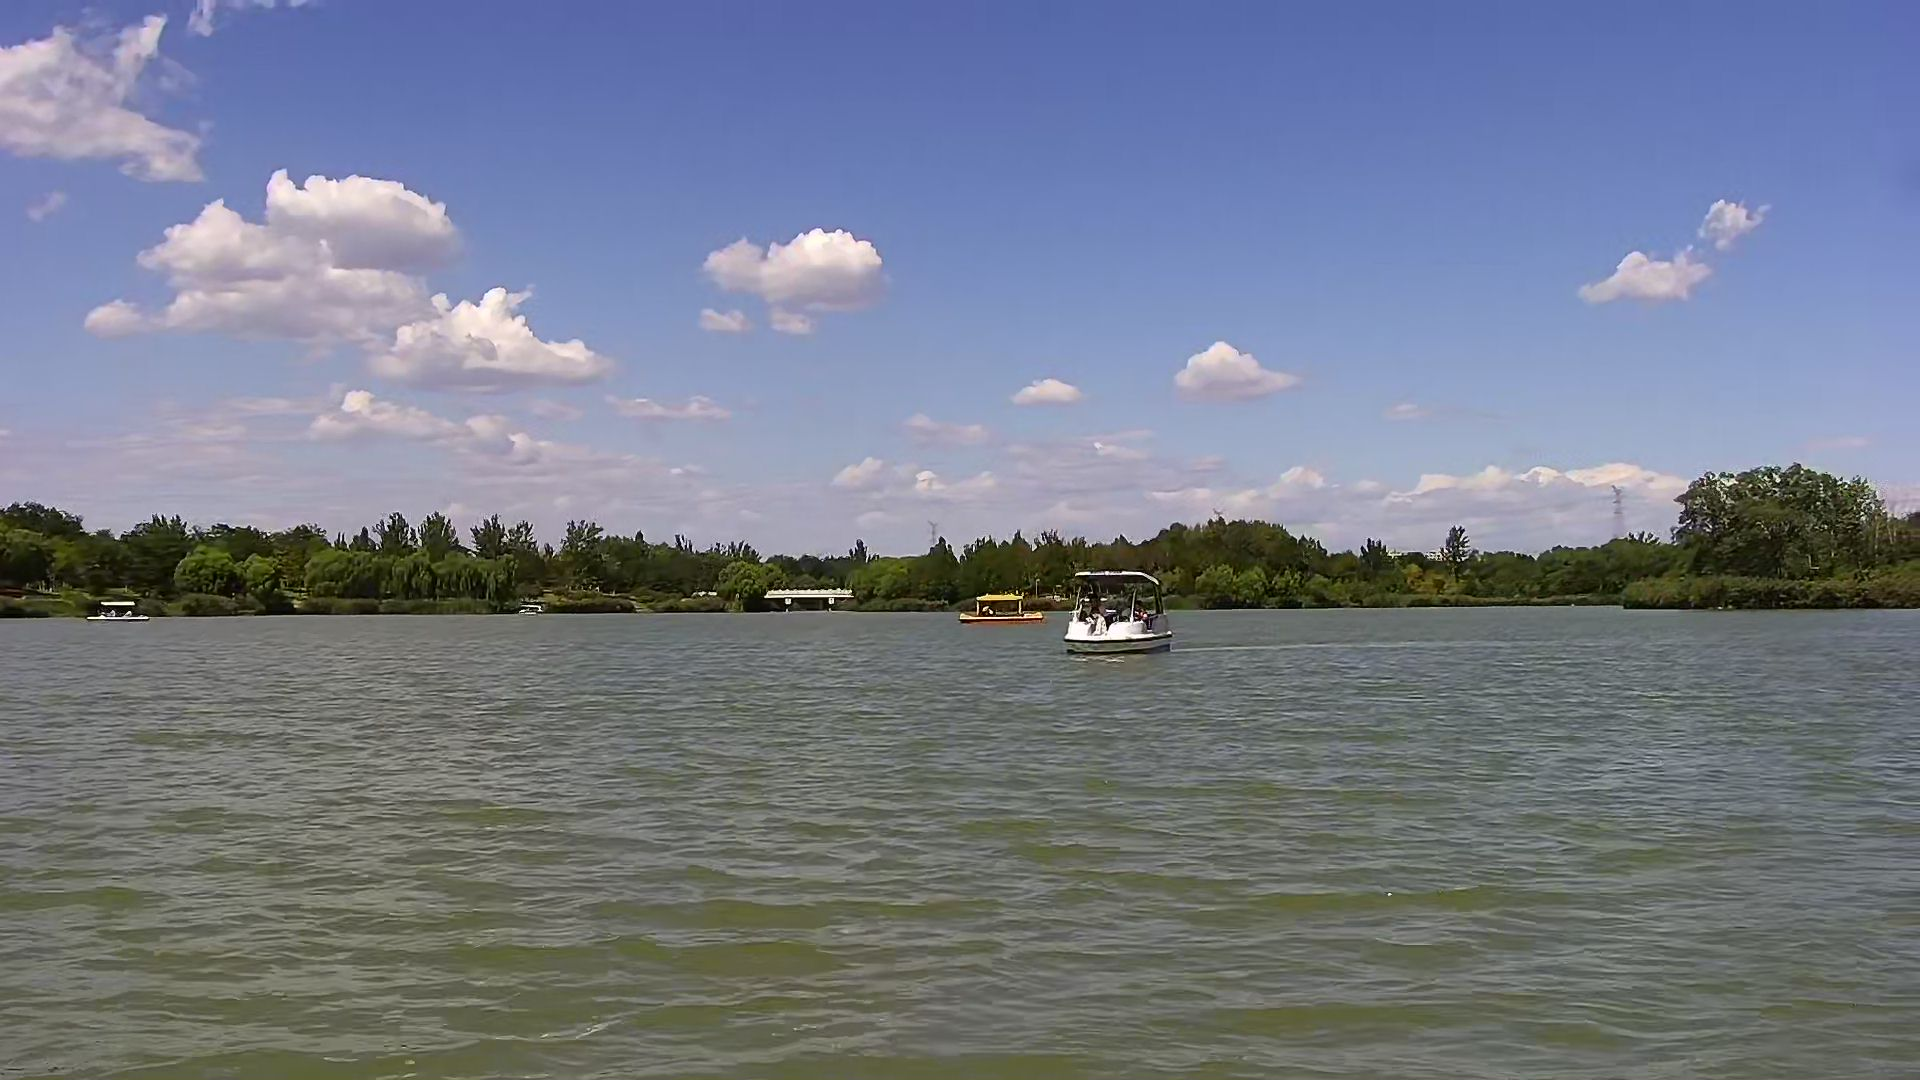boat: (1062, 568, 1170, 654), (963, 593, 1040, 624), (84, 597, 148, 622)
bridge: (769, 585, 849, 612)
